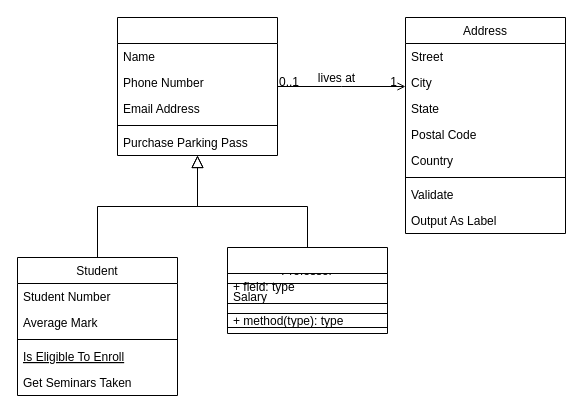
The diagram is 583 pixels wide and 416 high, and some of its shapes have lost their labels. The shapes that lost their labels are listed below. From the top down, each one's box as (x1, y1, x2, y2) in pixels, then its label:
(116, 16, 278, 156): Person
(226, 246, 388, 334): Classname
